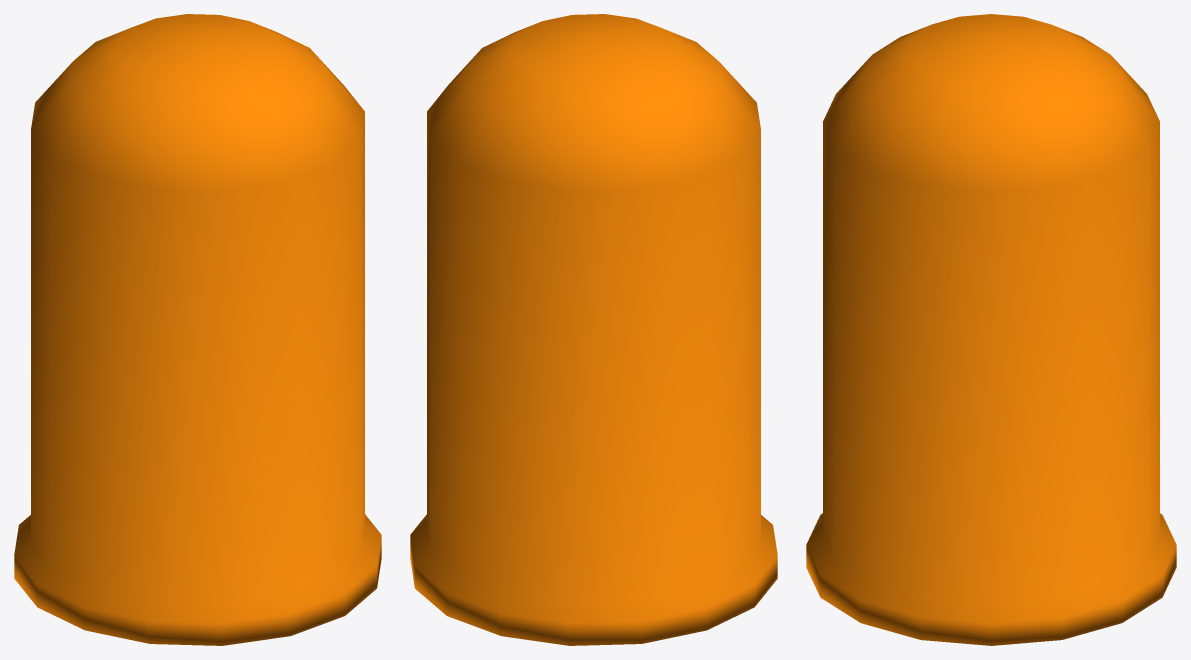
Rendered from SM_Poid_03.fbx.
3 renders of one model, left to right at view 1: azimuth 30°, elevation 25°; view 2: azimuth 150°, elevation 25°; view 3: azimuth 270°, elevation 25°, orthographic.
Visible parts, largest first — view 1: Poid_03_l; view 2: Poid_03_l; view 3: Poid_03_l.
Boxes of the visible parts, box(x1,y1,x2,y2) form: Poid_03_l: box(14, 14, 381, 645); Poid_03_l: box(410, 14, 777, 645); Poid_03_l: box(806, 14, 1176, 645).
Bounding box in the file's own units: 10.58 × 16.66 × 10.58.
